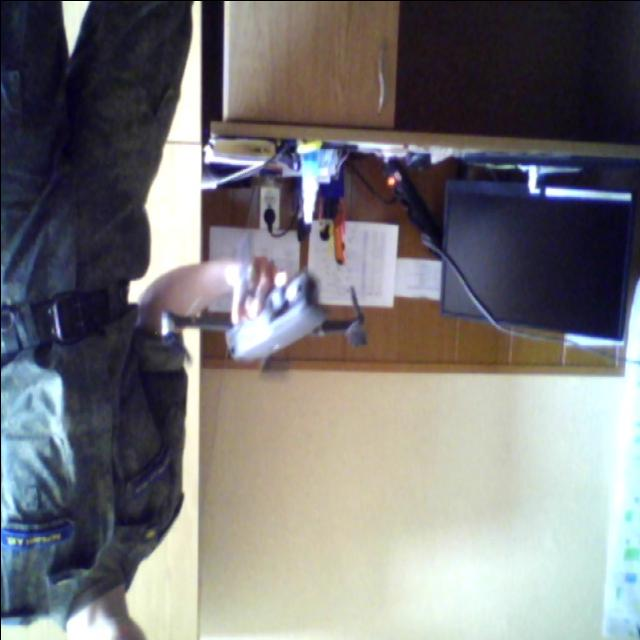drone: (148, 238, 372, 398)
